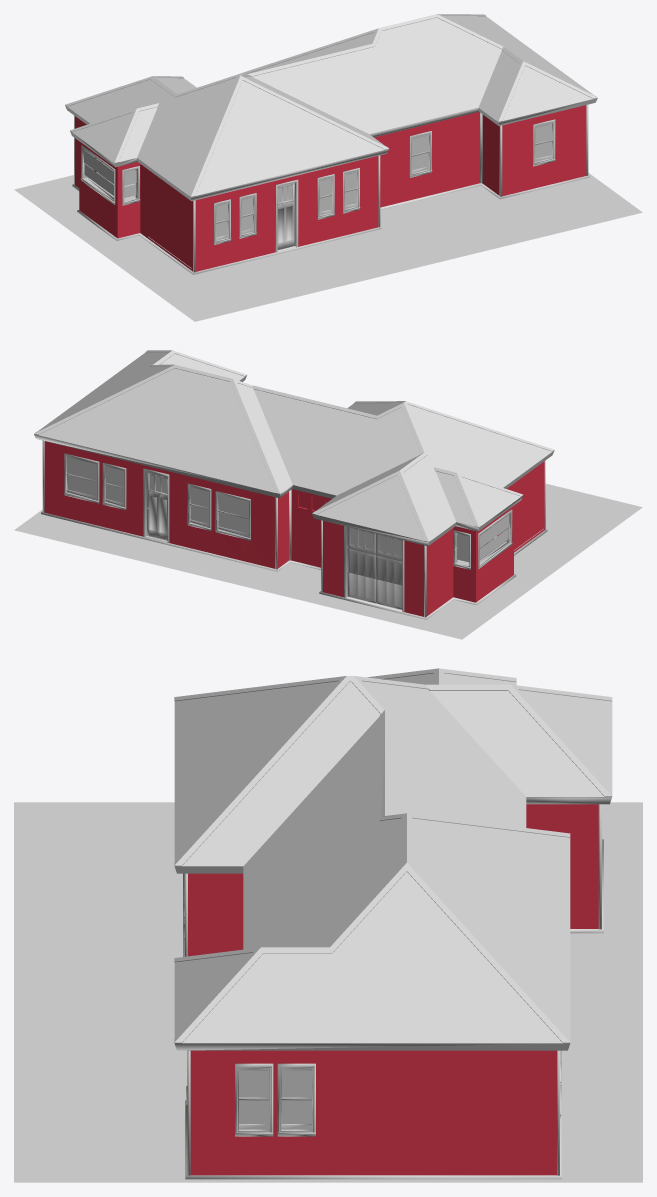
File: apartment.glb
3 views of the same model, one above another, from view 1: azimuth 30°, elevation 25°; view 2: azimuth 150°, elevation 25°; view 3: azimuth 270°, elevation 25° (orthographic). The views are drawn at different scales.
Parts seen in each view (by area): view 1: geo_63, Plane, geo_101, geo_61, geo_115, Object004, geo_62, Plane002; view 2: geo_63, geo_101, Plane, geo_115, geo_62, geo_61, Object004, Plane002; view 3: geo_63, Plane, geo_101, Object004, geo_61, geo_115, Plane002, geo_62.
Part boxes in pixels (x1,y1,x2,y2): geo_63: [65, 14, 597, 197]; Plane: [14, 173, 642, 321]; geo_101: [75, 105, 586, 271]; geo_61: [74, 104, 588, 272]; geo_115: [84, 124, 552, 237]; Object004: [65, 98, 597, 201]; geo_62: [216, 122, 553, 249]; Plane002: [72, 175, 589, 274]; geo_63: [34, 350, 554, 542]; geo_101: [44, 441, 544, 616]; Plane: [14, 483, 642, 639]; geo_115: [67, 457, 509, 562]; geo_62: [66, 456, 402, 609]; geo_61: [42, 440, 545, 617]; Object004: [34, 375, 554, 546]; Plane002: [41, 511, 547, 619]; geo_63: [174, 668, 612, 1043]; Plane: [14, 802, 642, 1182]; geo_101: [188, 804, 598, 1175]; Object004: [174, 797, 611, 1050]; geo_61: [183, 804, 601, 1175]; geo_115: [239, 1070, 311, 1123]; Plane002: [183, 839, 603, 1179]; geo_62: [238, 1068, 313, 1132].
Bounding box in the file's own units: 865 × 302 × 603.
